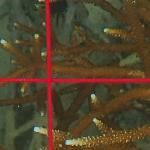alive: (3, 3, 148, 147)
